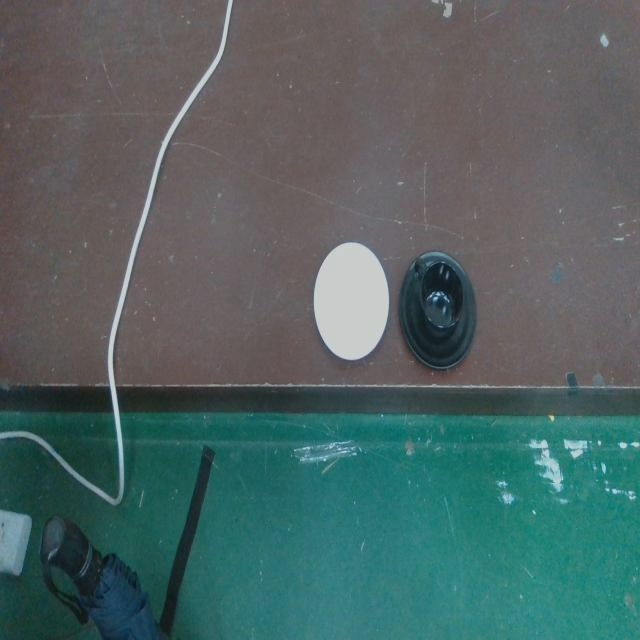black: (396, 246, 479, 376)
white: (314, 238, 392, 366)
